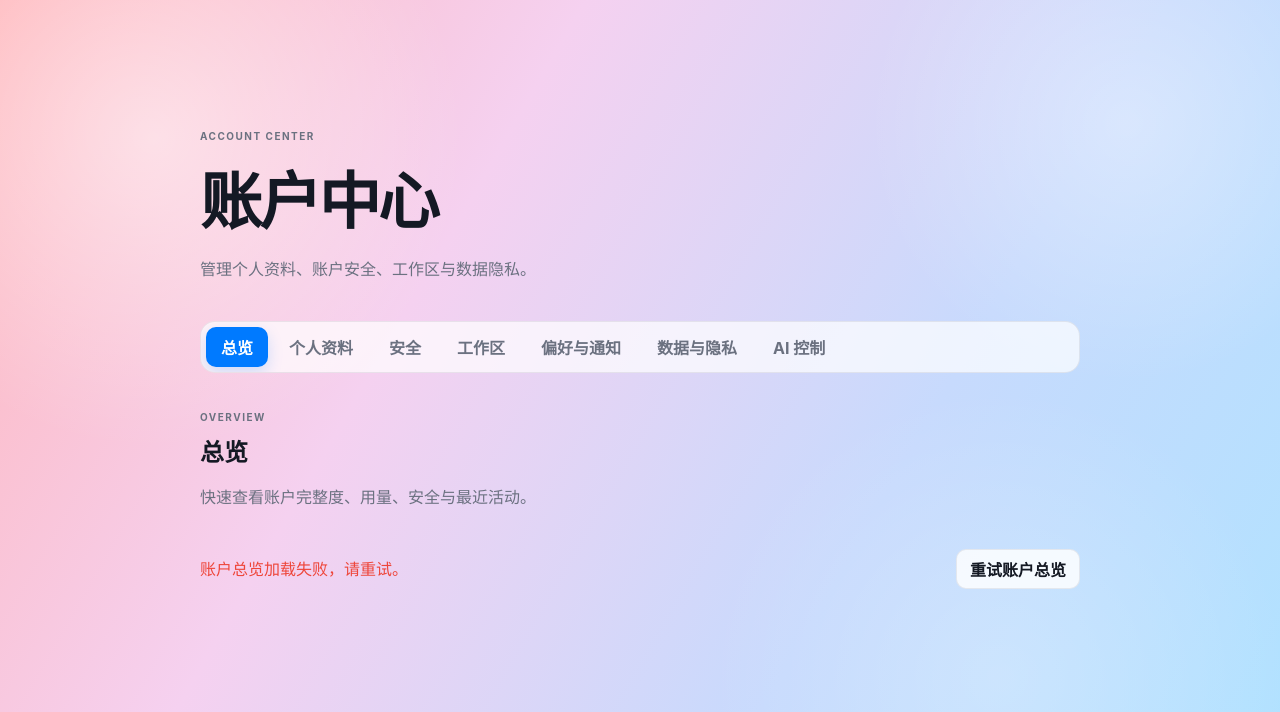
product gap completion › retries a failed account overview without losing the account shell
Check: the message shows "账户总览加载失败", box [200,559,408,579]
Click the button "重试账户总览".
click(1018, 569)  # box [956,549,1080,589]
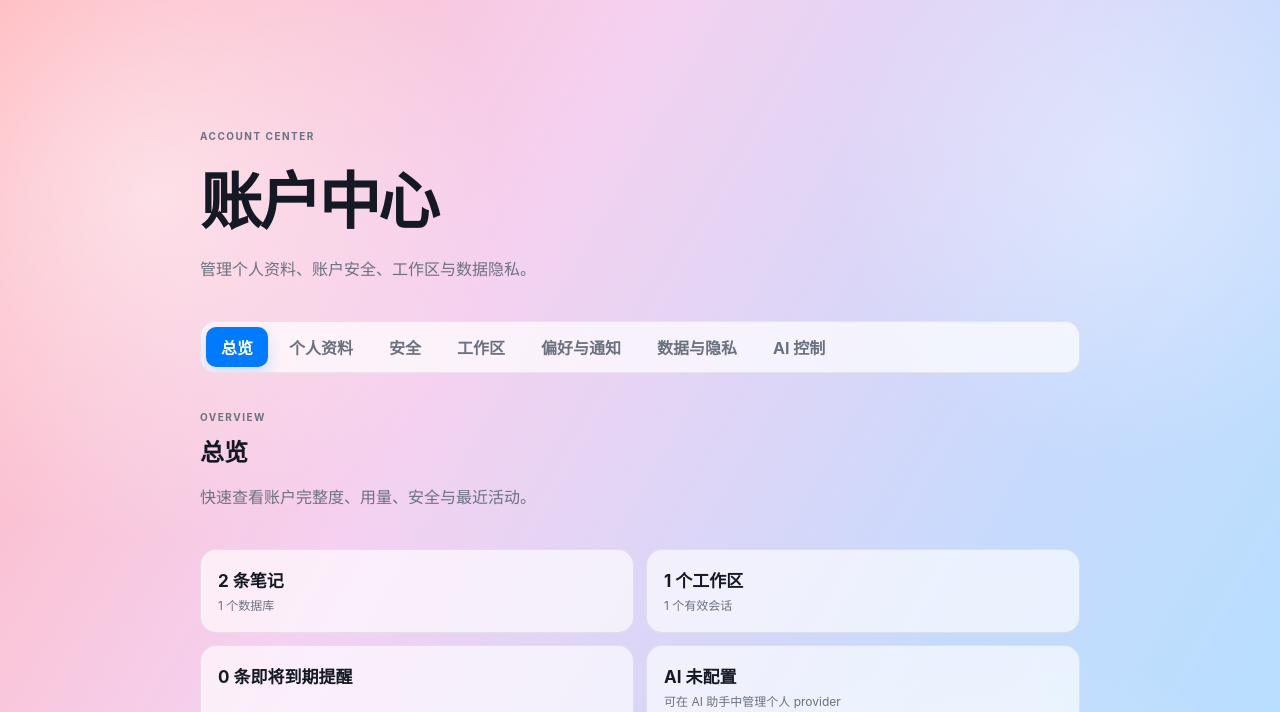
Check: the text "2 条笔记" is shown, box [218,571,284,591]
